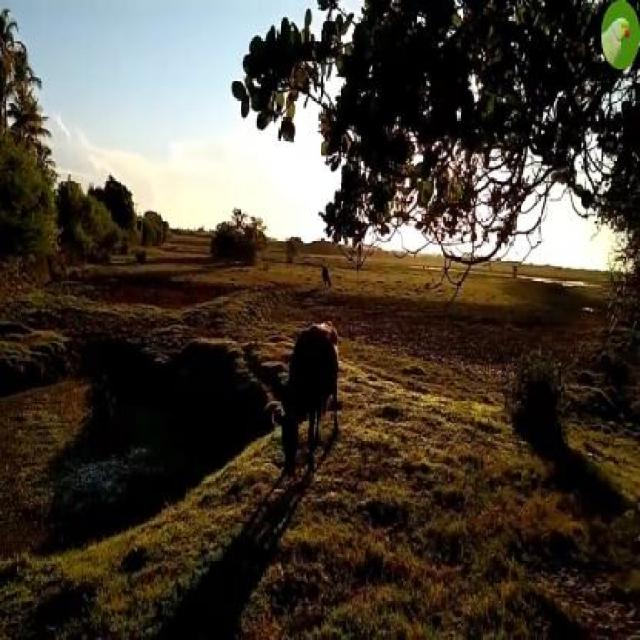Cow: (282, 317, 340, 480)
